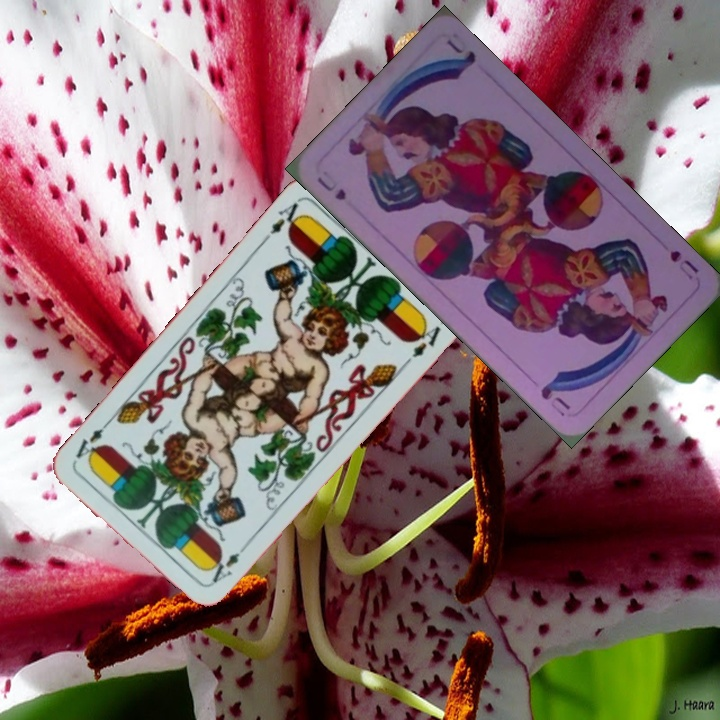EA: (259, 198, 308, 246), (208, 537, 252, 586)
SU: (666, 246, 701, 283), (312, 172, 349, 204)
